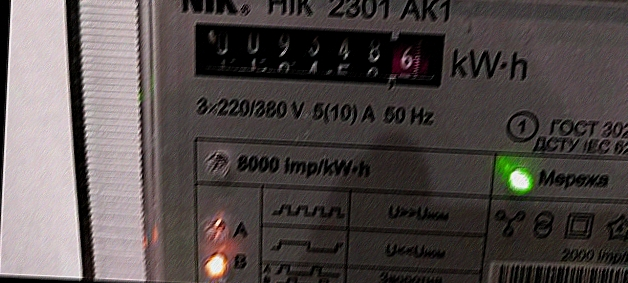0: (244, 28, 260, 52), (214, 27, 228, 53)
3: (305, 30, 320, 56)
4: (334, 31, 350, 59)
6: (396, 41, 414, 69)
8: (364, 34, 381, 62)
9: (274, 29, 290, 56)
screen: (181, 13, 453, 94)
